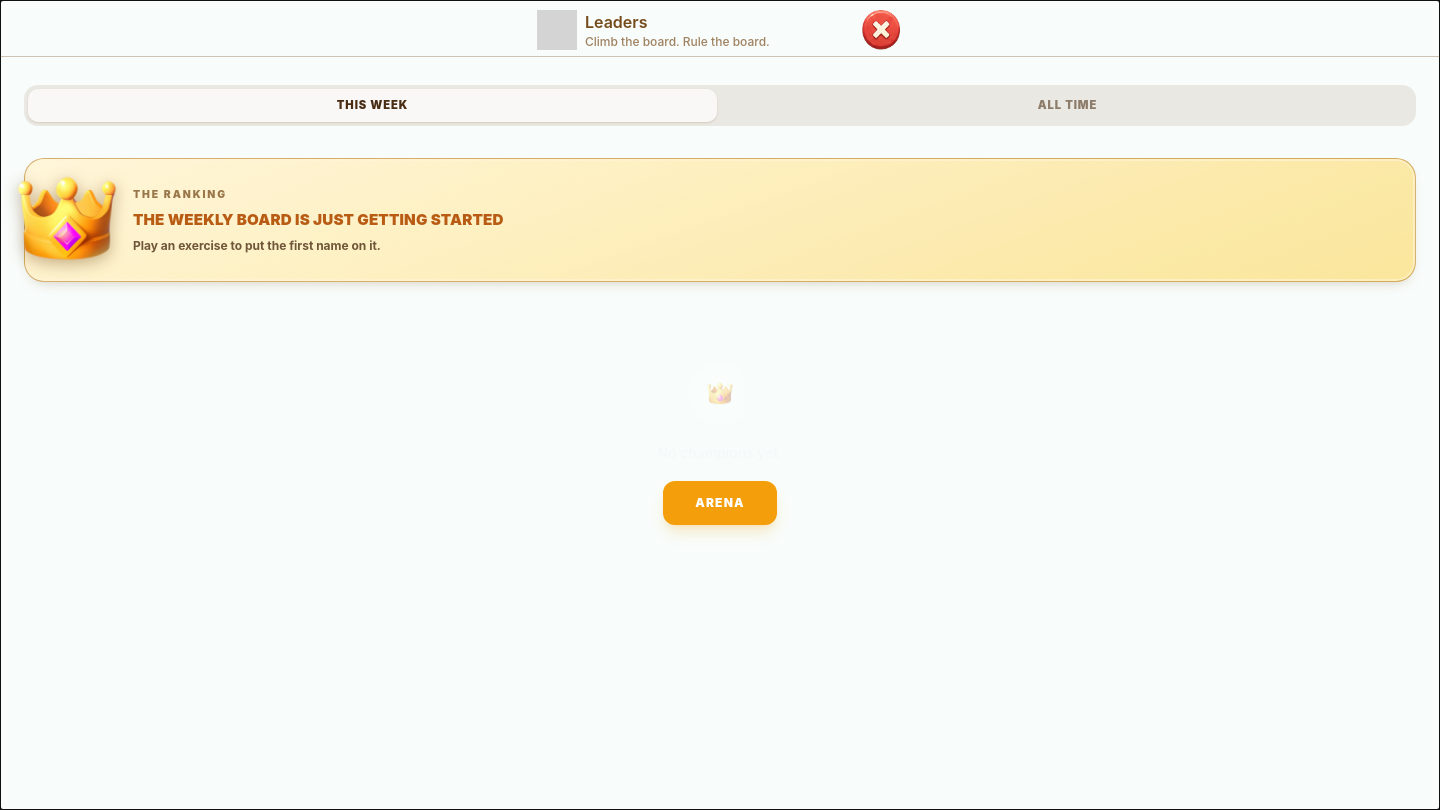
Test: hero population (never the top-10 cut) › asks for the windowed all-time shape, the only one carrying a population
Step 1. Click the tab "ALL TIME" → (1068, 105), box [723,89,1412,122]
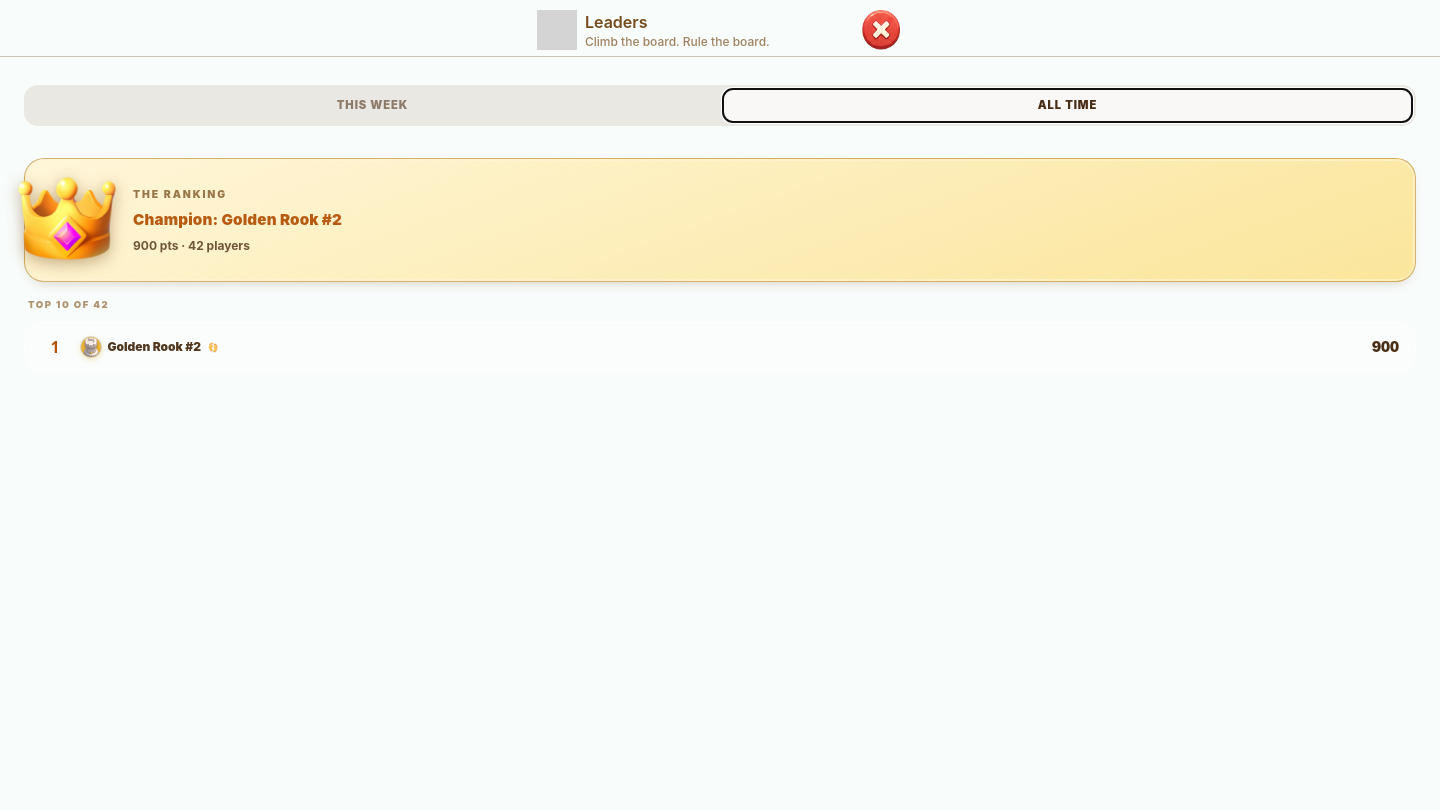
Expected: the text "900 pts · 42 players" is shown, [133,238,250,252]
